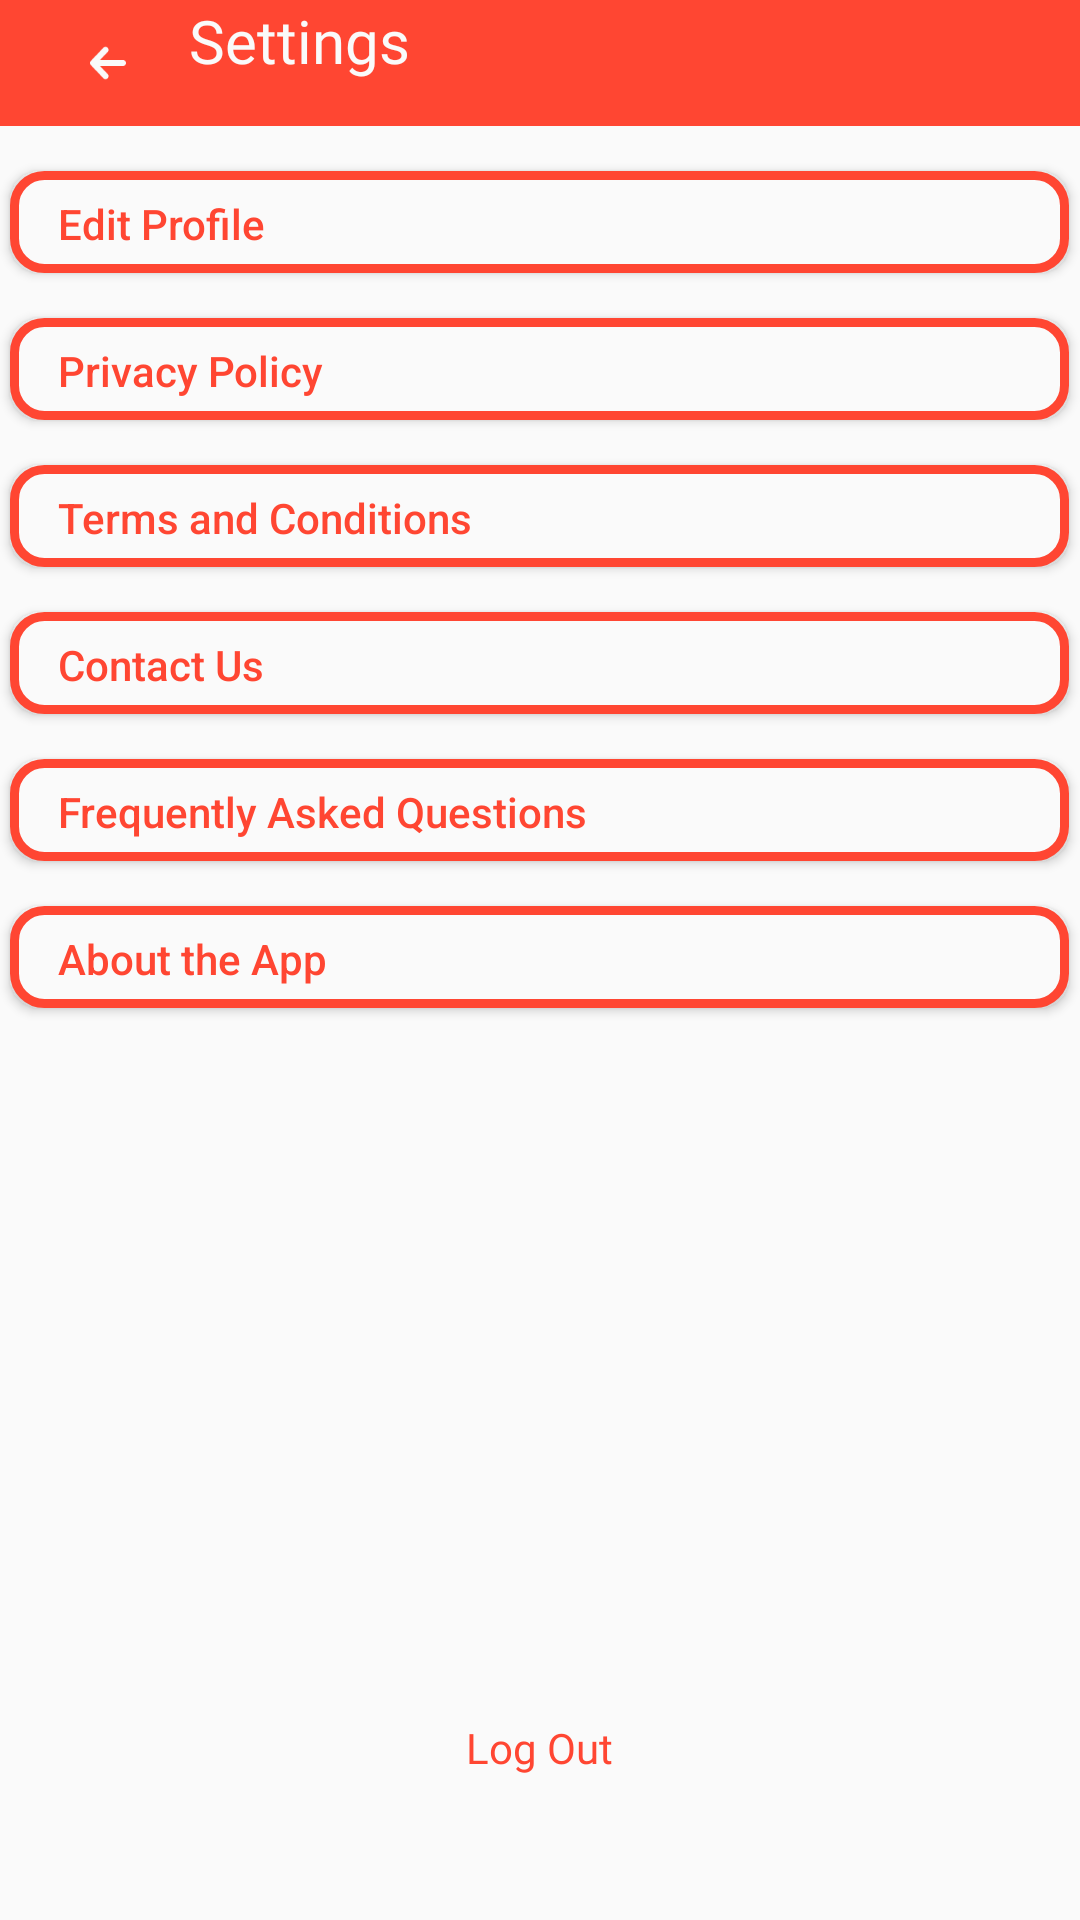

Point at icon controls on the screen. Image size 1080 x 1920, points as point (x, y).
arrowleft: point (108, 63)
